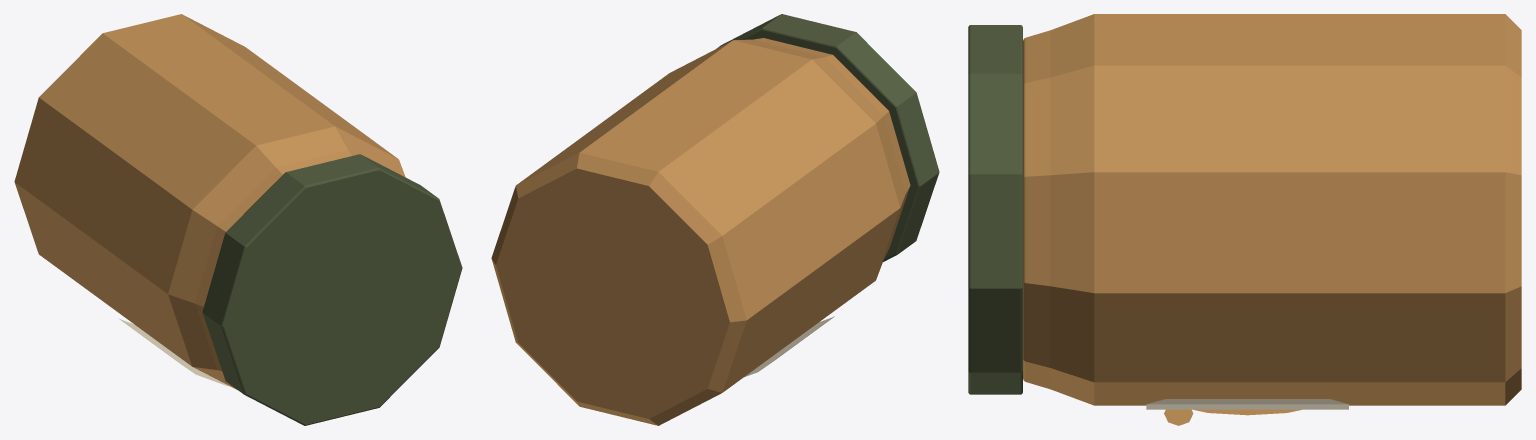
Rendered from almond_butter.glb.
3 renders of one model, left to right at view 1: azimuth 30°, elevation 25°; view 2: azimuth 150°, elevation 25°; view 3: azimuth 270°, elevation 25°, orthographic. The views are drawn at different scales.
Parts seen in each view (by area): view 1: almond_butter; view 2: almond_butter; view 3: almond_butter.
Boxes of the visible parts, box(x1,y1,x2,y2) form: almond_butter: box(14, 14, 462, 425); almond_butter: box(491, 14, 939, 425); almond_butter: box(968, 14, 1521, 425).
Size of the model in its own units: 0.072 by 0.0731 by 0.101.
